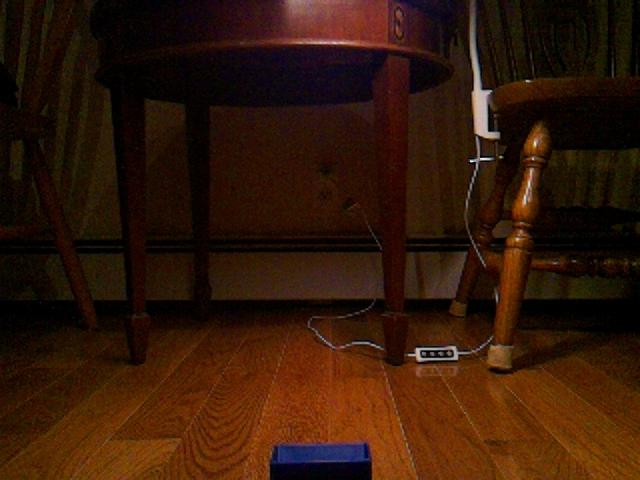blue: (268, 440, 374, 480)
